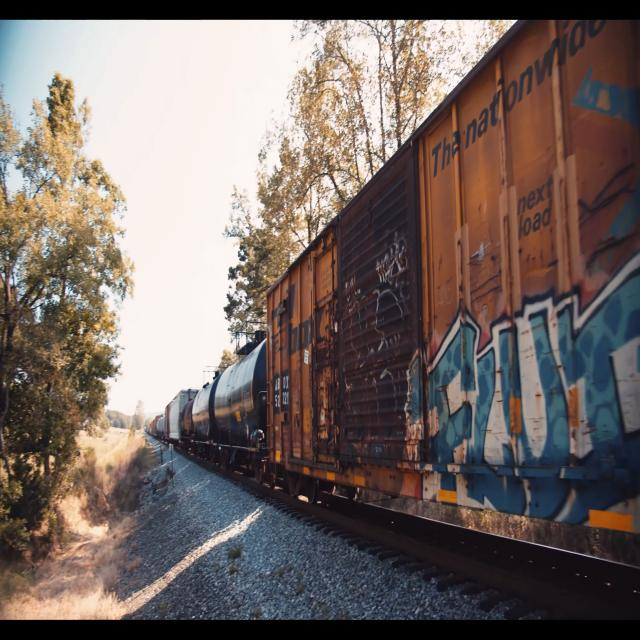boxcar: (262, 19, 640, 594)
tank: (210, 328, 268, 486), (190, 370, 217, 465)
